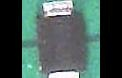diode: (33, 0, 90, 78)
